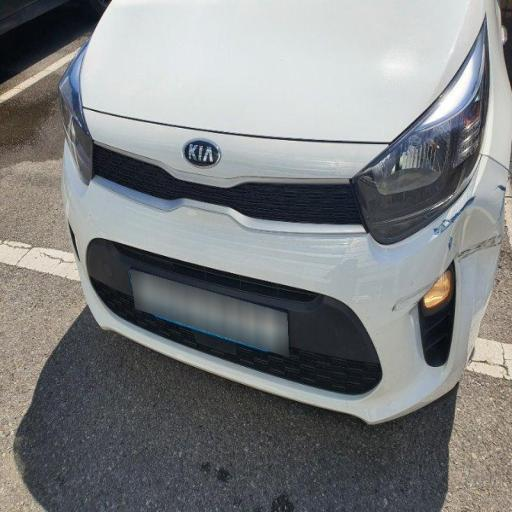normal: (92, 0, 487, 394)
